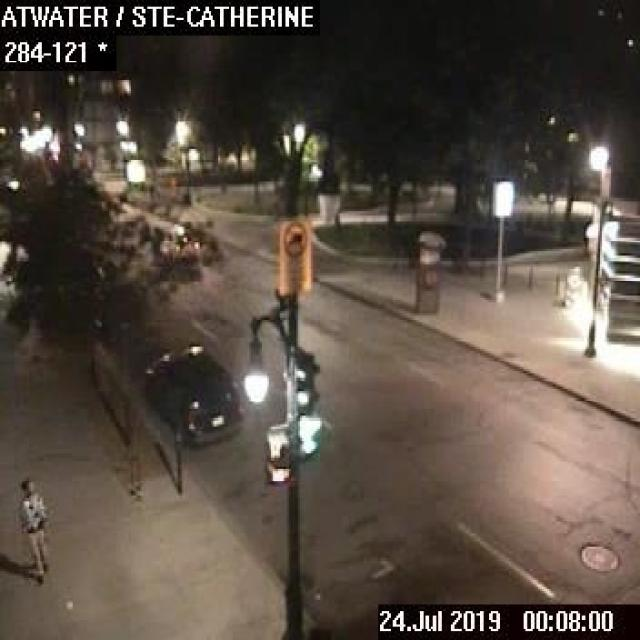pedestrian: (13, 473, 45, 580)
vehicle: (142, 346, 242, 446), (157, 222, 198, 260)
